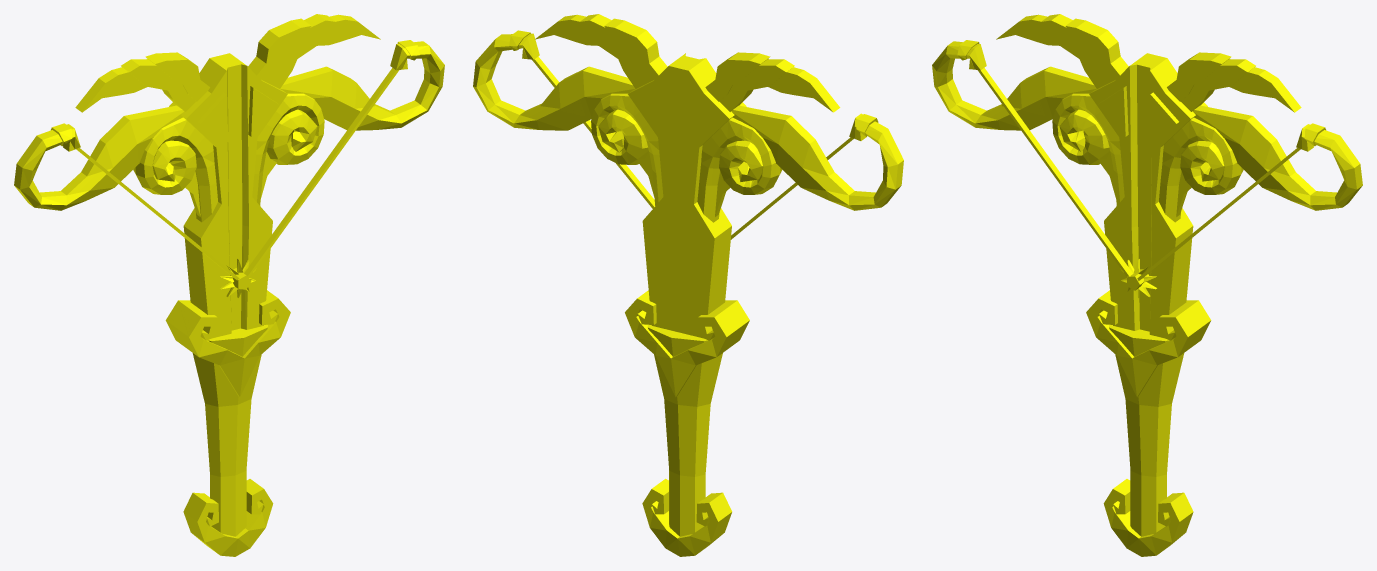
File: _crossbow_24.glb
3 views of the same model, side by side, from view 1: azimuth 30°, elevation 25°; view 2: azimuth 150°, elevation 25°; view 3: azimuth 330°, elevation 25° (orthographic).
Visible parts, largest first — view 1: crossbow_24; view 2: crossbow_24; view 3: crossbow_24.
Part boxes in pixels (x1,y1,x2,y2): crossbow_24: [14, 14, 444, 556]; crossbow_24: [473, 14, 903, 556]; crossbow_24: [932, 14, 1362, 556].
Size of the model in its own units: 0.5826 by 0.6743 by 0.078.
1 material, 1 textured.
